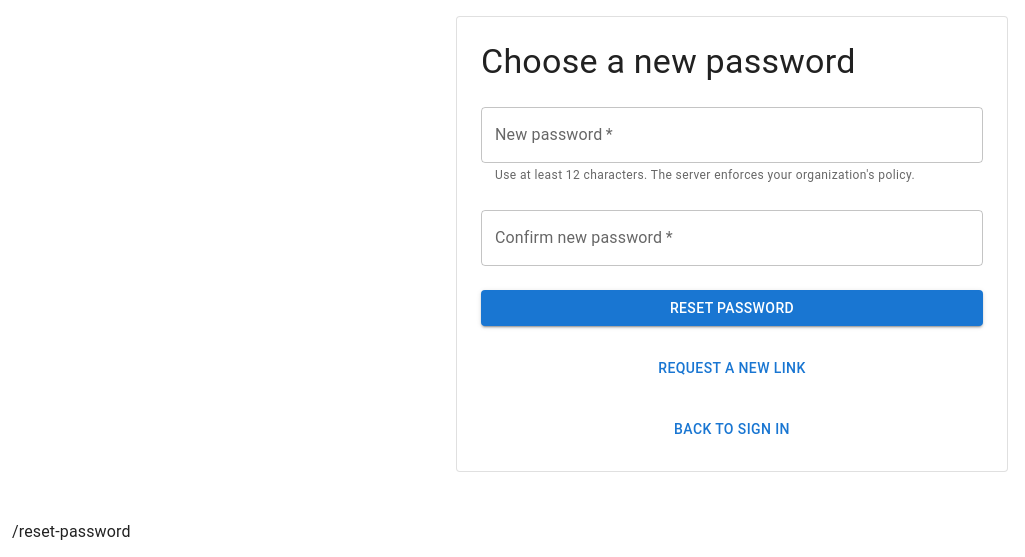
Test case: PRD-02 password recovery › requires a new link after an invalid or consumed token
This screenshot has width=1025, height=557.
Type "new-correct-horse-battery" into the password field labelled "New password *" at coordinates (732, 135), box [481,107,983,163]
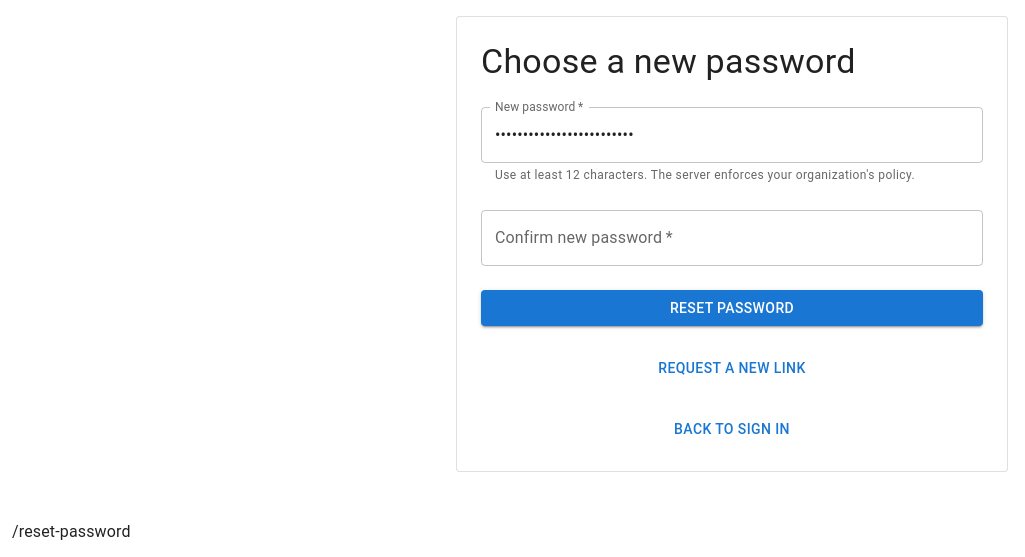
Type "new-correct-horse-battery" into the password field labelled "Confirm new password *" at coordinates (732, 238), box [481,210,983,266]
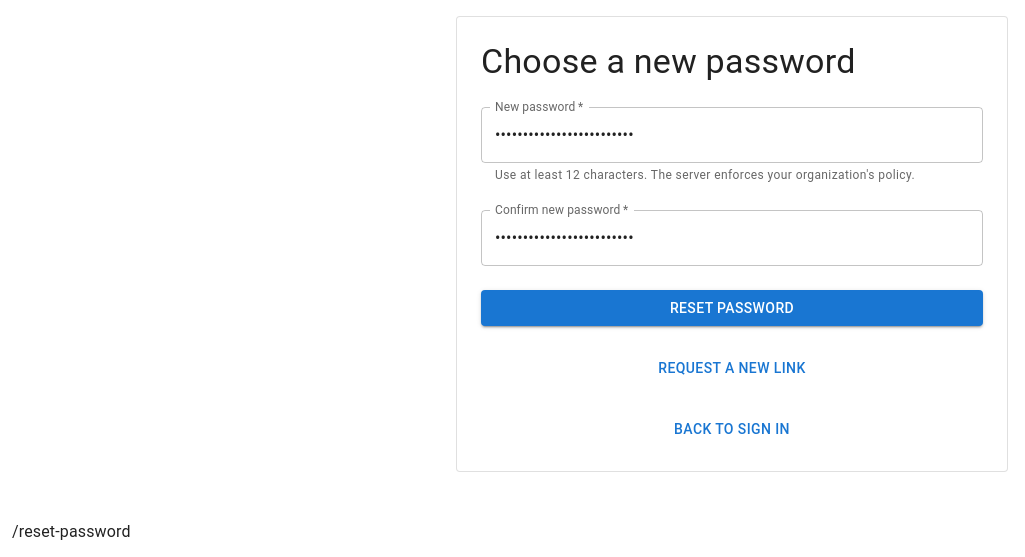
Submit the form named "Reset password", box [481,41,983,447]
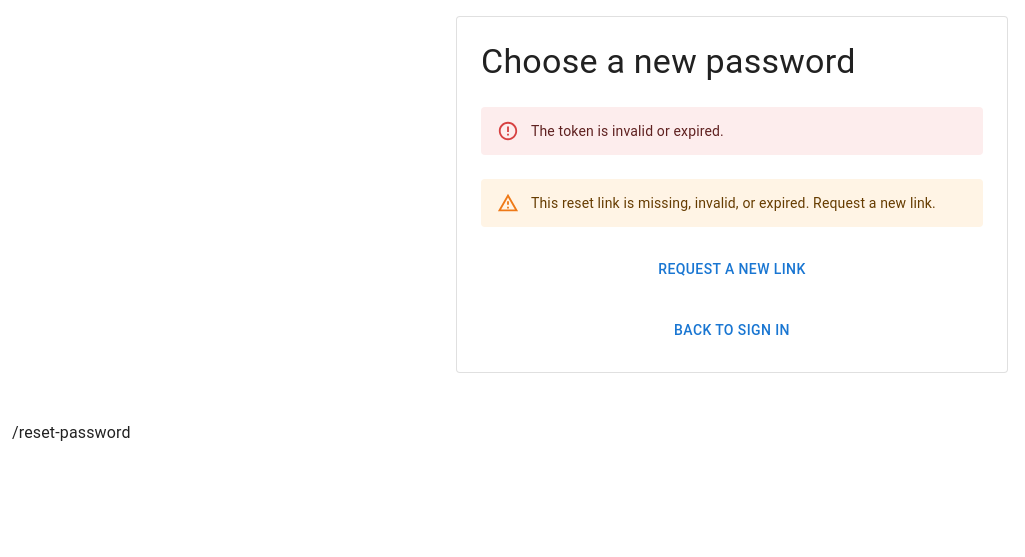
Expected: the link "Request a new link" is shown, [658,261,806,277]
Expected: the text "The token is invalid or expired." is shown, [531,123,724,139]
Expected: the button "Reset password" is gone
